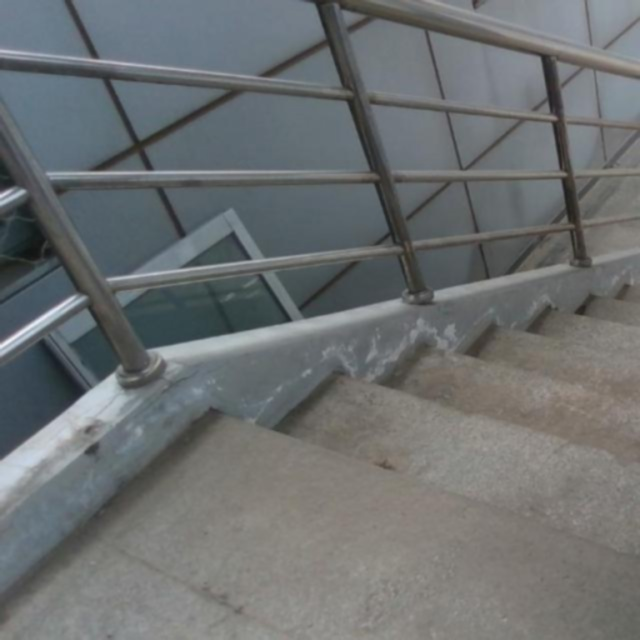stair: (235, 293, 640, 585)
